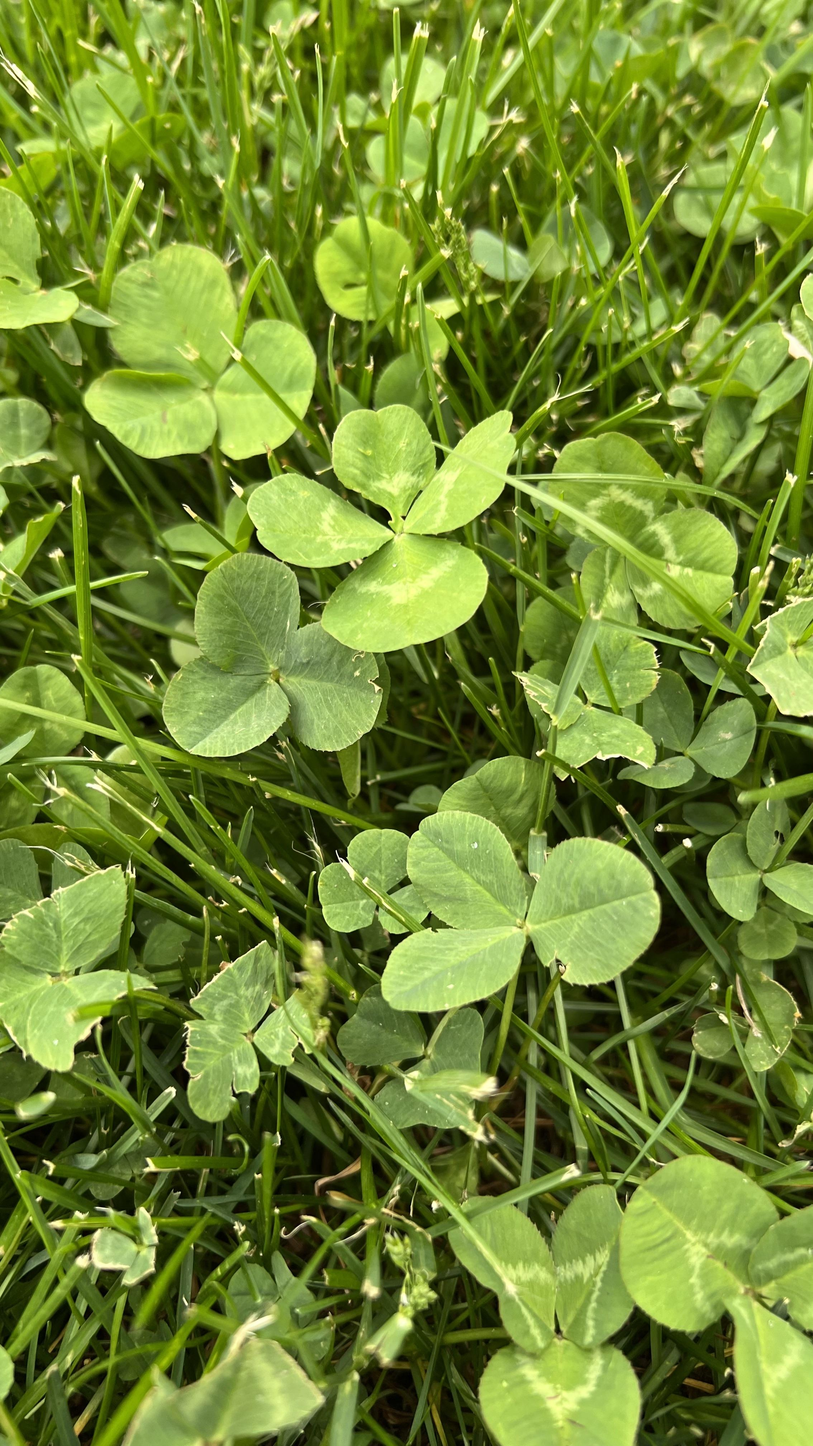4-Leaf-Clovers: (226, 527, 369, 1008)
